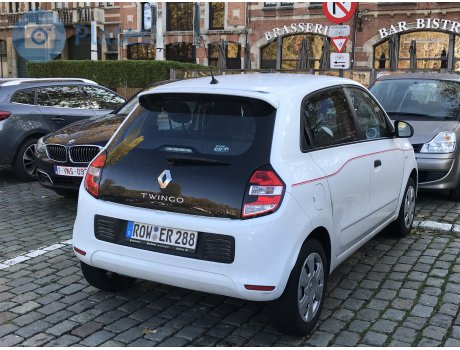License Plates: (131, 223, 193, 241)
